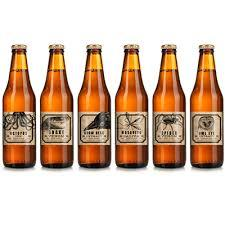Glass bottle: (1, 21, 225, 177)
